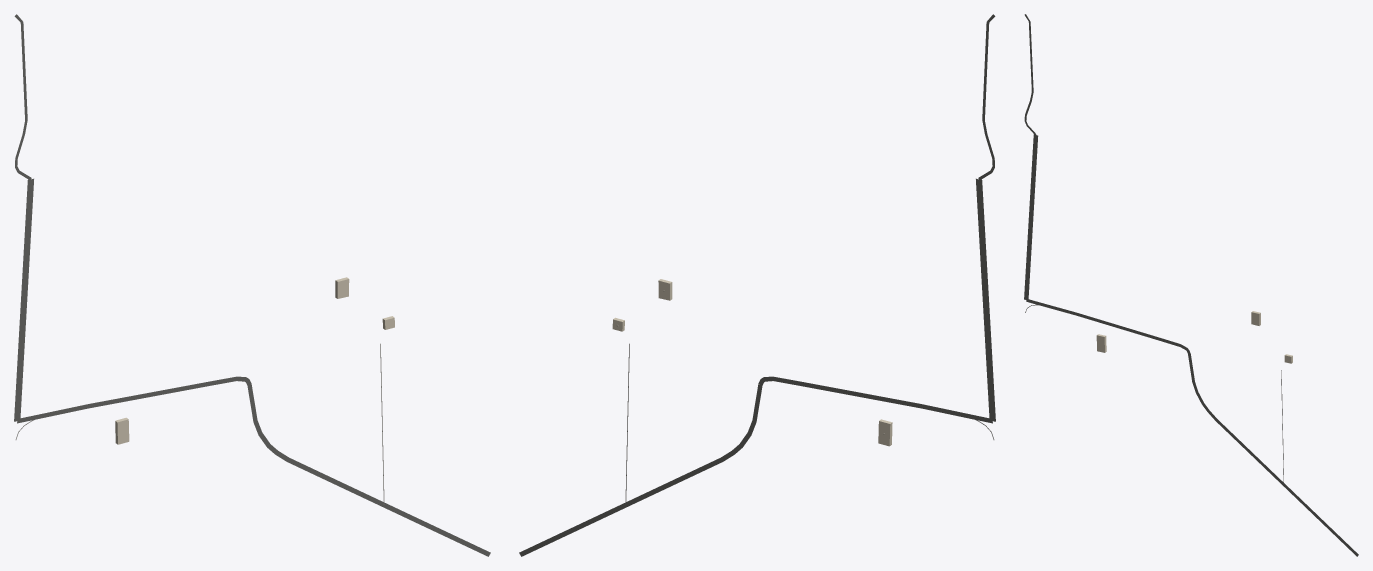
Rendered from historic-palestine-07_24_3489_3187.glb.
The picture shows the model from 3 angles, left to right: view 1: azimuth 30°, elevation 25°; view 2: azimuth 150°, elevation 25°; view 3: azimuth 330°, elevation 25°; orthographic projection. The views are drawn at different scales.
Parts seen in each view (by area): view 1: Road 4245, Road 44, Road; view 2: Road 4245, Road 44, Road; view 3: Road 4245, Road 44.
Part boxes in pixels (left/top/right/bottom): Road 4245: left=17, top=376, right=490, bottom=556; Road 44: left=14, top=178, right=33, bottom=421; Road: left=14, top=14, right=31, bottom=179; Road 4245: left=519, top=376, right=992, bottom=556; Road 44: left=976, top=178, right=995, bottom=421; Road: left=978, top=14, right=995, bottom=180; Road 4245: left=1026, top=299, right=1358, bottom=556; Road 44: left=1024, top=134, right=1038, bottom=300.
Bounding box in the file's own units: 894 × 1179 × 8.7.
